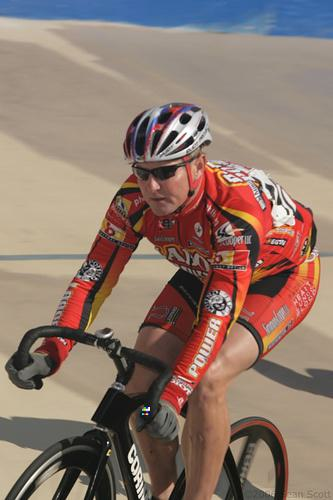car: (1, 323, 292, 500)
person: (10, 100, 325, 500)
